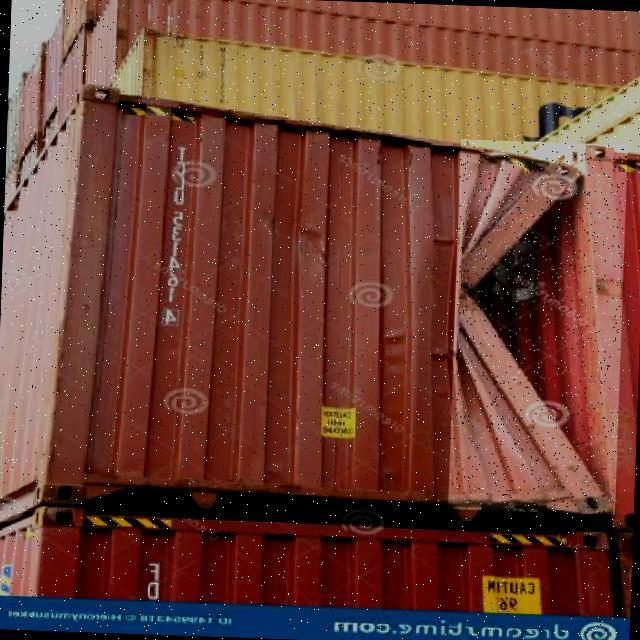Deframe: (448, 139, 628, 515)
